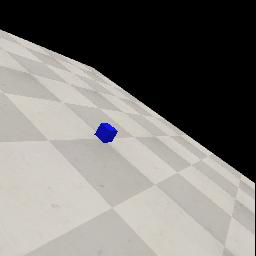box: (94, 123, 118, 143)
